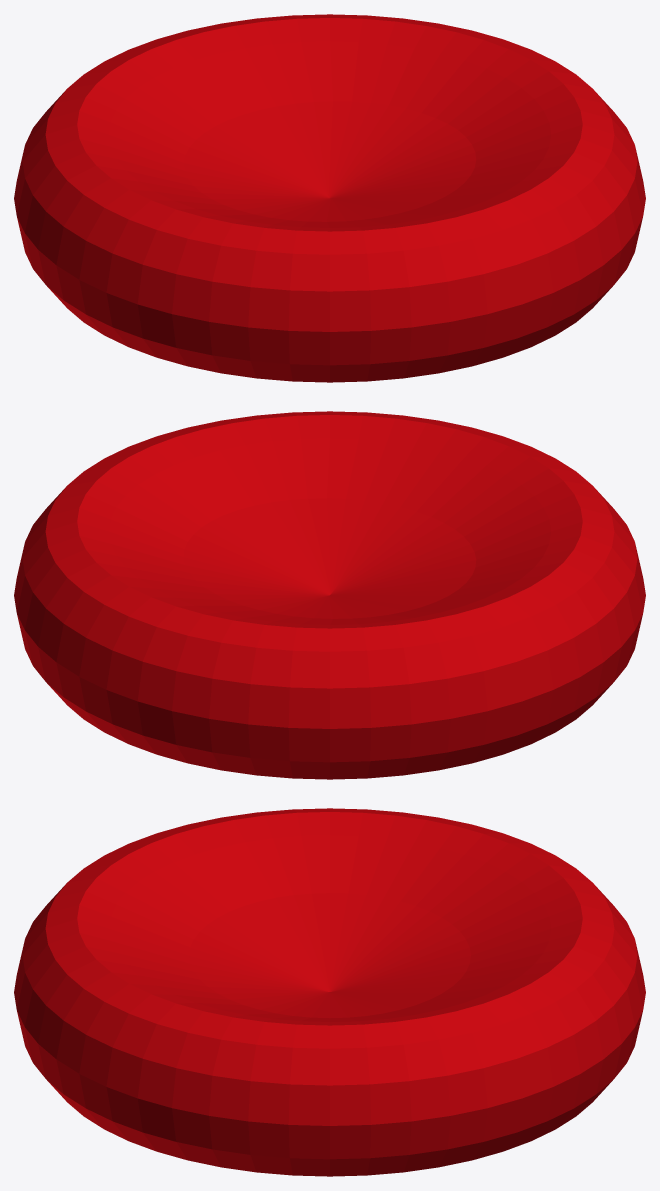
File: redbloodcell.fbx
3 views of the same model, one above another, from view 1: azimuth 30°, elevation 25°; view 2: azimuth 150°, elevation 25°; view 3: azimuth 270°, elevation 25° (orthographic).
Visible parts, largest first — view 1: Torus; view 2: Torus; view 3: Torus.
Boxes of the visible parts, left/top/right/bottom form: Torus: left=14, top=14, right=645, bottom=382; Torus: left=14, top=411, right=645, bottom=779; Torus: left=14, top=808, right=645, bottom=1176.
Bounding box in the file's own units: 250 × 64.4 × 250.
